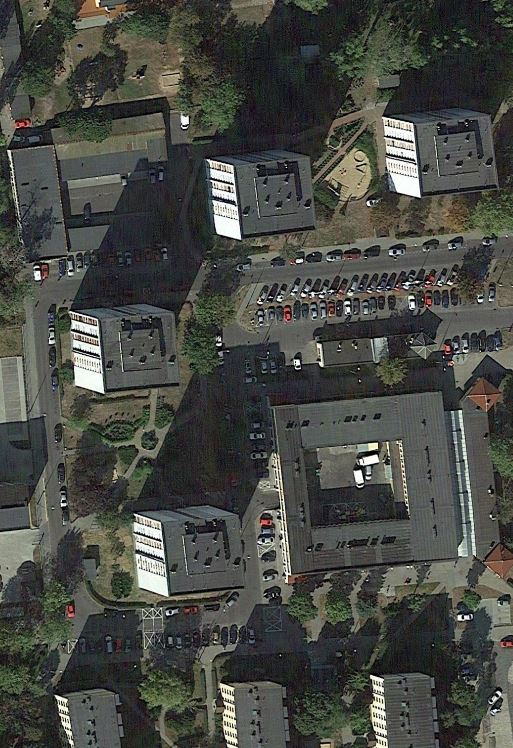block of flats: (261, 394, 474, 581), (65, 298, 187, 398), (380, 104, 503, 201), (205, 143, 319, 243), (356, 663, 443, 748), (216, 673, 300, 748), (52, 686, 135, 748)
